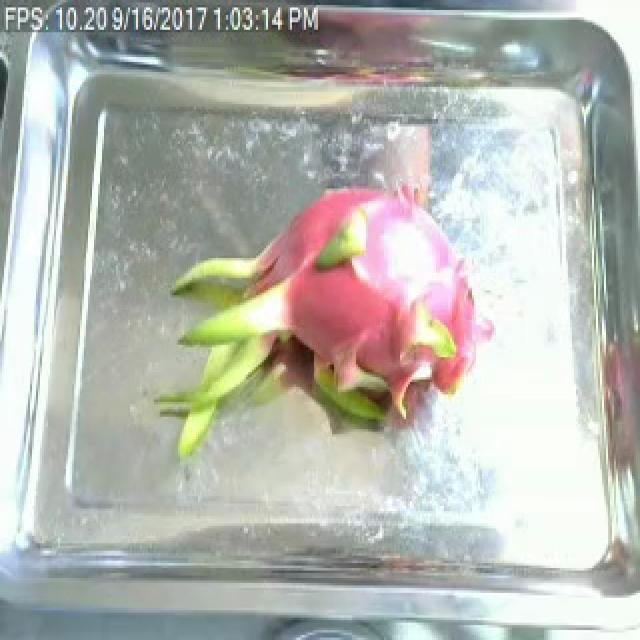fruit: (146, 161, 484, 484)
